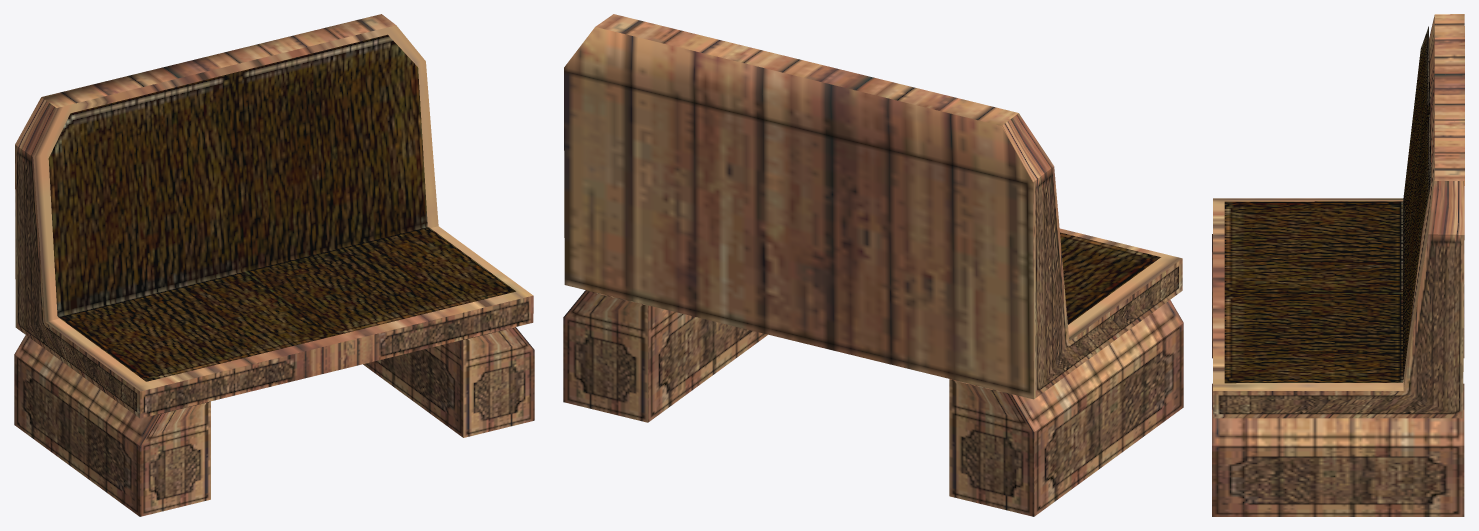
File: frn_all_eleg_love_seat_s02_l1.fbx
3 renders of one model, left to right at view 1: azimuth 30°, elevation 25°; view 2: azimuth 150°, elevation 25°; view 3: azimuth 270°, elevation 25°, orthographic. The views are drawn at different scales.
Parts seen in each view (by area): view 1: mesh_node; view 2: mesh_node; view 3: mesh_node.
Boxes of the visible parts, bbox=[...] form: mesh_node: bbox=[14, 14, 534, 516]; mesh_node: bbox=[563, 14, 1183, 516]; mesh_node: bbox=[1212, 14, 1464, 516].
Bounding box in the file's own units: 1.28 × 0.9974 × 0.7077.
